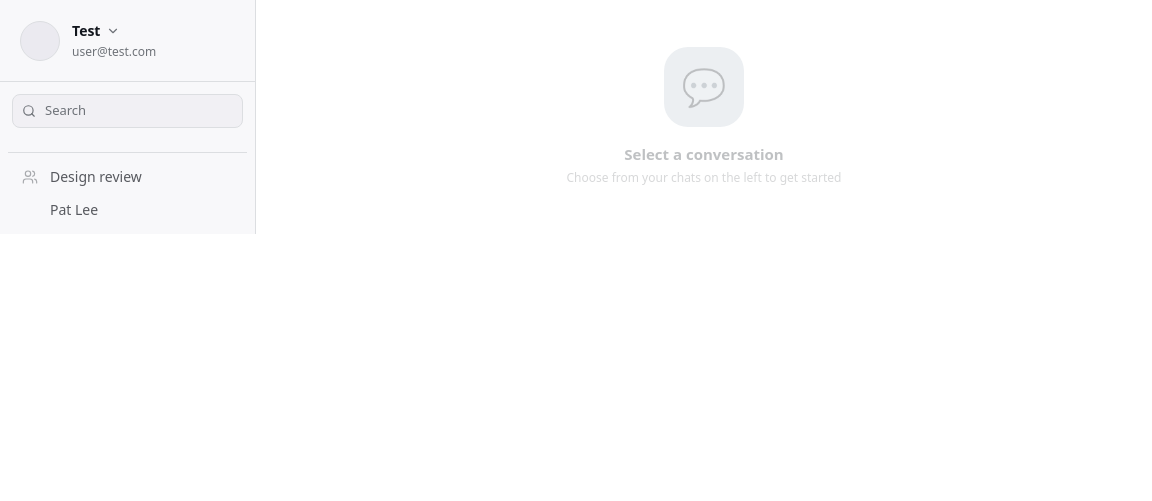
ChatWorkspace › opens a profile message button to the person's direct chat from a group
What coordinates should you click on to do the following:
click the button "Design review"
I would click on:
 (128, 176)
Its box is [8,160,247,192].
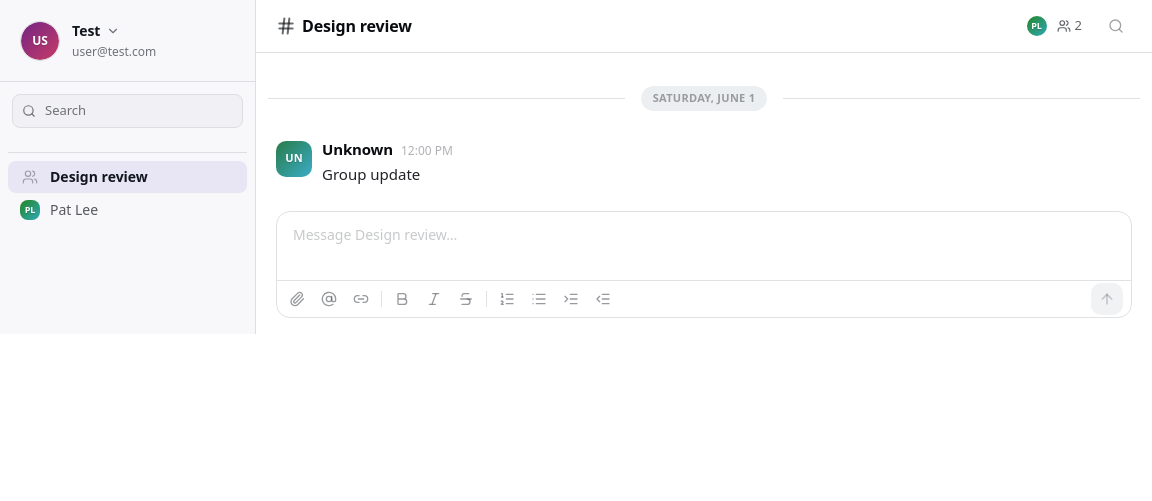
What coordinates should you click on to do the following:
click the button with aria-label "View profile: Pat Lee"
I would click on:
 (294, 158)
Its box is [276,140,312,176].
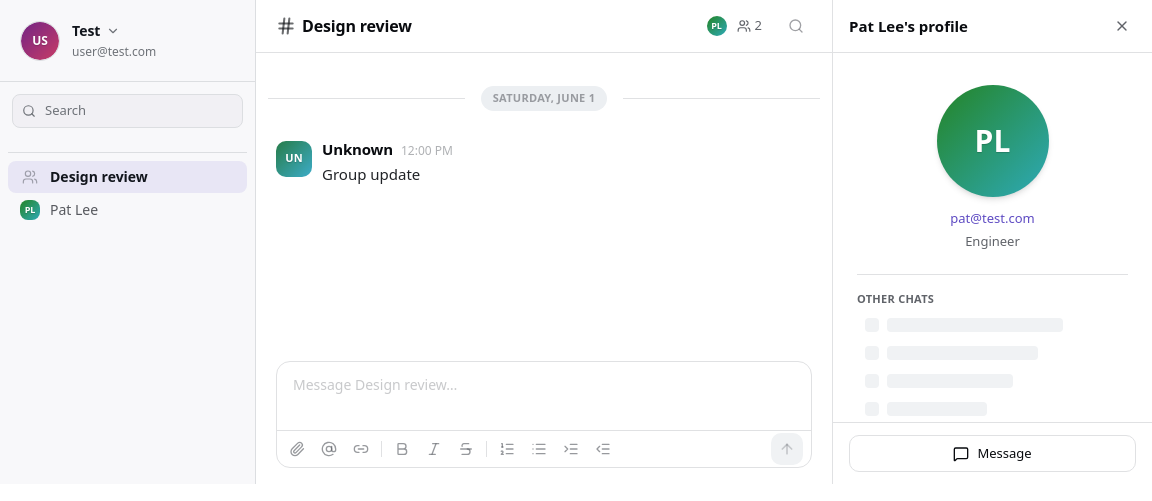
Result: the text "Pat Lee's profile" is shown at [832,0,1151,484]
What coordinates should you click on to do the following:
click the button "Message"
I would click on:
 (992, 454)
Its box is [849,435,1136,472].
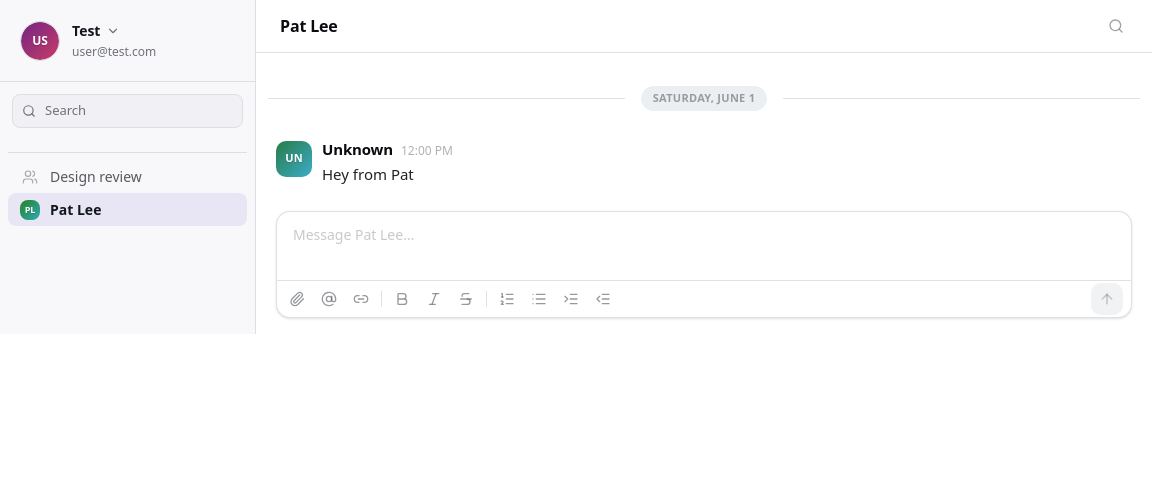
Result: the heading "Pat Lee's profile" is gone
